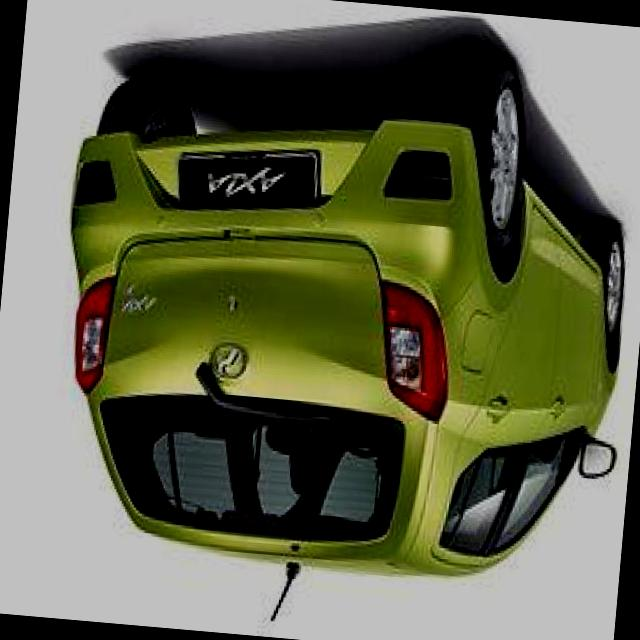PeroduaAxia: (35, 18, 640, 640)
